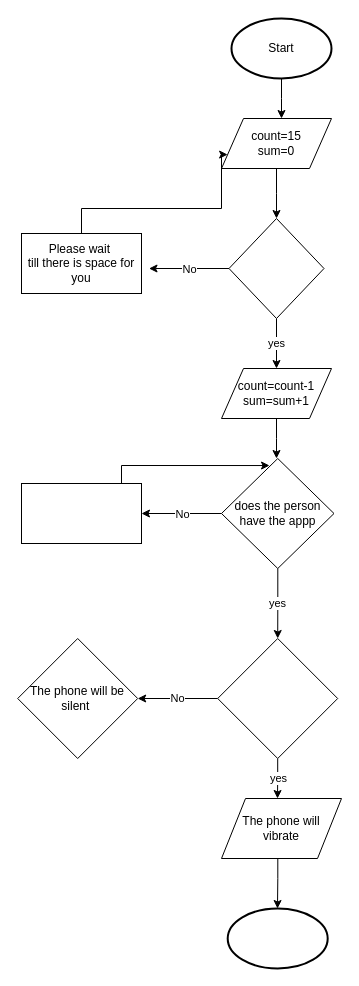
Image size: 359x986. Some labels were removed from this diagram. Each missing label, with the centre of its shape:
Is the space enough for the person?: [276,268]
Is there someone near 2m or less?: [277,698]
Please download the app: [81,513]
The end: [277,938]
